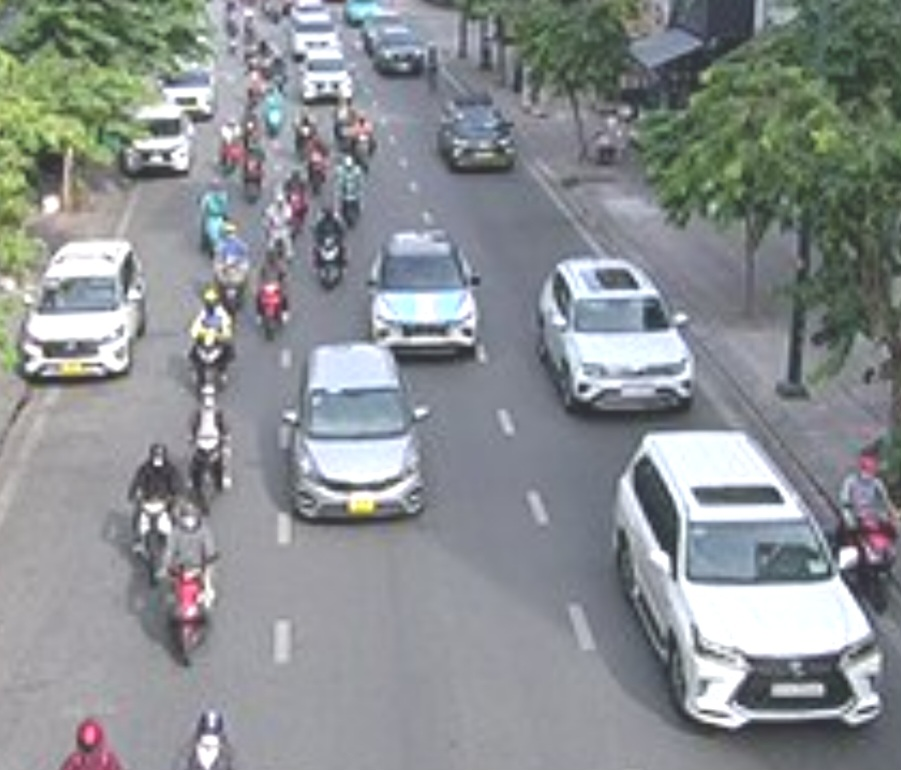car: (611, 426, 883, 732), (286, 343, 439, 528), (536, 251, 699, 424), (22, 243, 150, 391), (364, 225, 484, 359), (437, 89, 521, 182), (125, 99, 200, 185), (159, 52, 222, 118), (299, 51, 355, 104), (375, 27, 429, 79), (288, 10, 342, 53)
